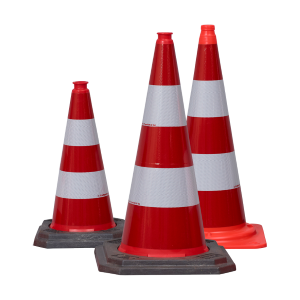traffic cone: (94, 32, 236, 275), (157, 24, 267, 248), (33, 81, 128, 249)
